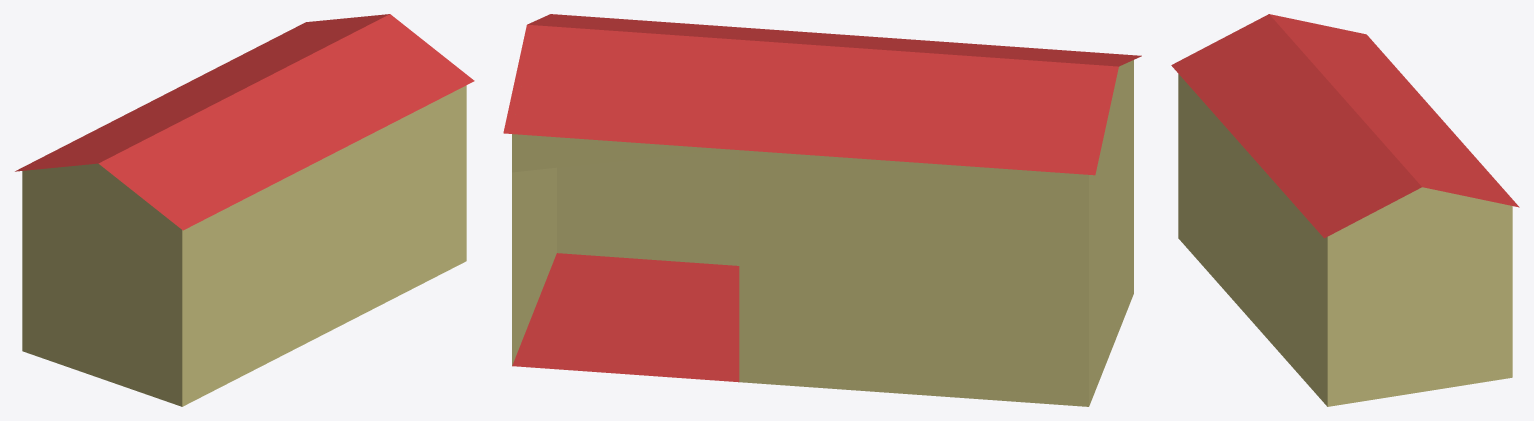
3 views of the same model, side by side, from view 1: azimuth 30°, elevation 25°; view 2: azimuth 150°, elevation 25°; view 3: azimuth 270°, elevation 25° (orthographic). The views are drawn at different scales.
Size of the model in its own units: 21.63 by 15.63 by 10.25.
